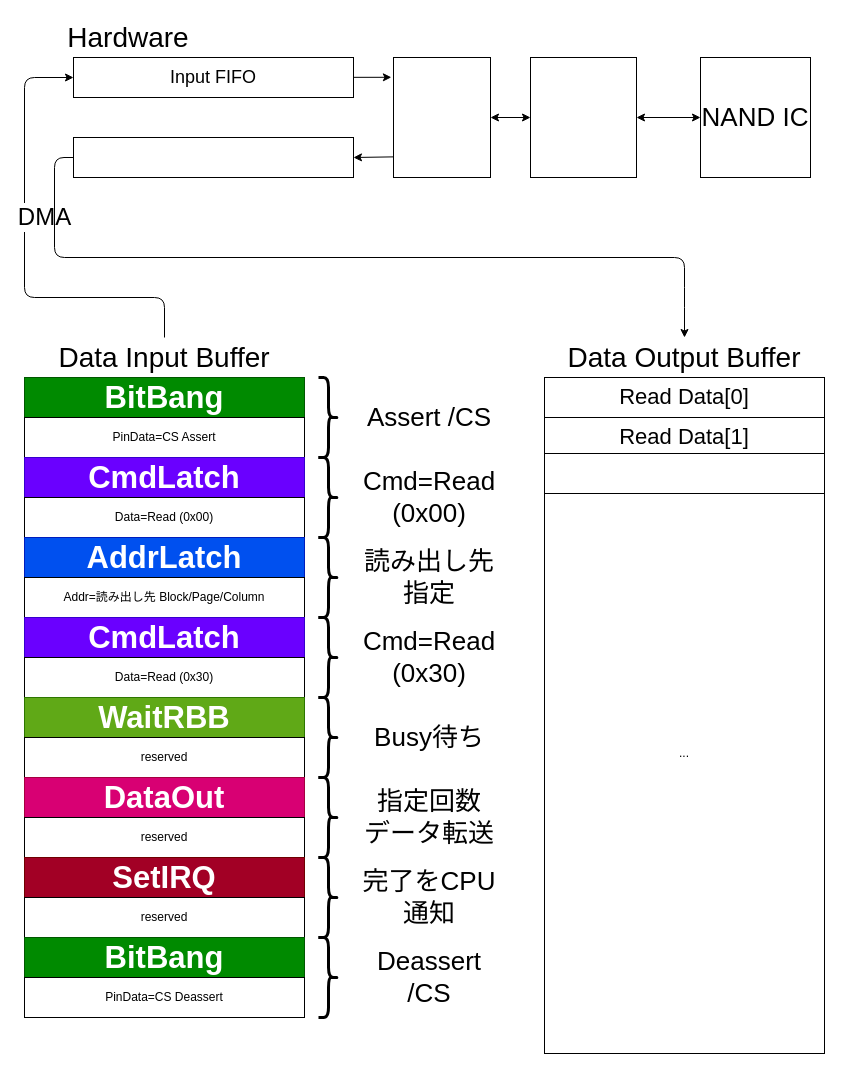
Image size: 842x1071. Some labels were removed from this diagram. Here are the shapes that lost their labels. From the top down, the centre of each, then its label:
At [441,117]: "PIO Core".
At [583,117]: "GPIO".
At [213,157]: "Output FIFO".
At [684,473]: "Read Data[2]".
